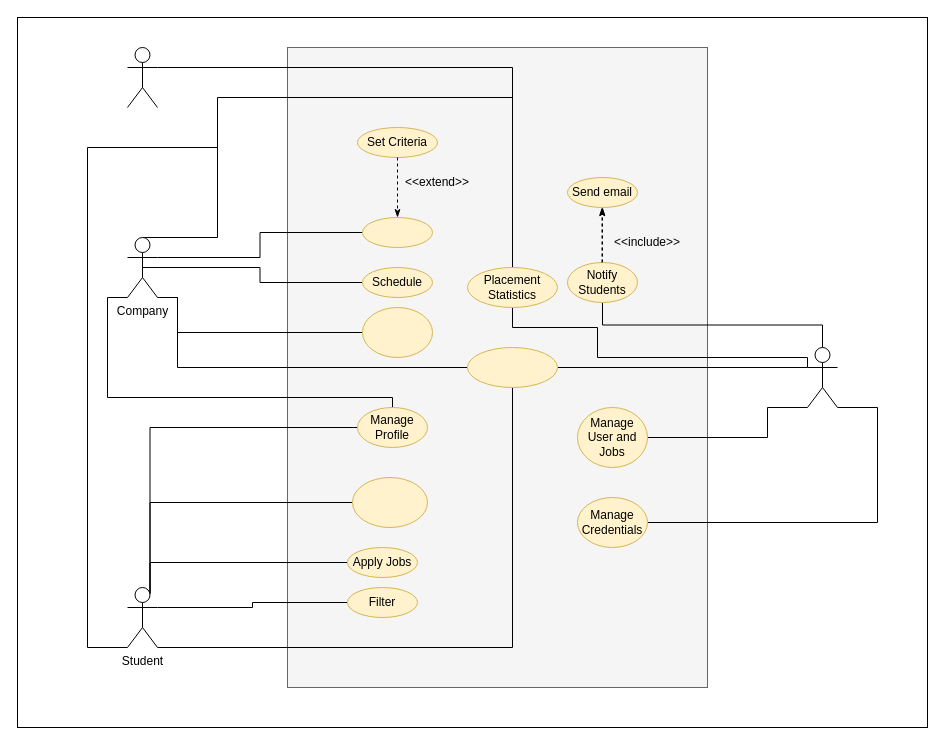
Image size: 945x745. Some labels were removed from this diagram. The box of each missing label's shape, as (x1, y1, x2, y2) in pixels:
Admin / Comity: (806, 346, 838, 408)
General Audience: (126, 46, 158, 108)
Login / Logout: (466, 346, 558, 388)
Post Job: (362, 216, 432, 248)
See Candidate Details: (362, 306, 432, 358)
View Company Profile: (352, 476, 428, 528)
